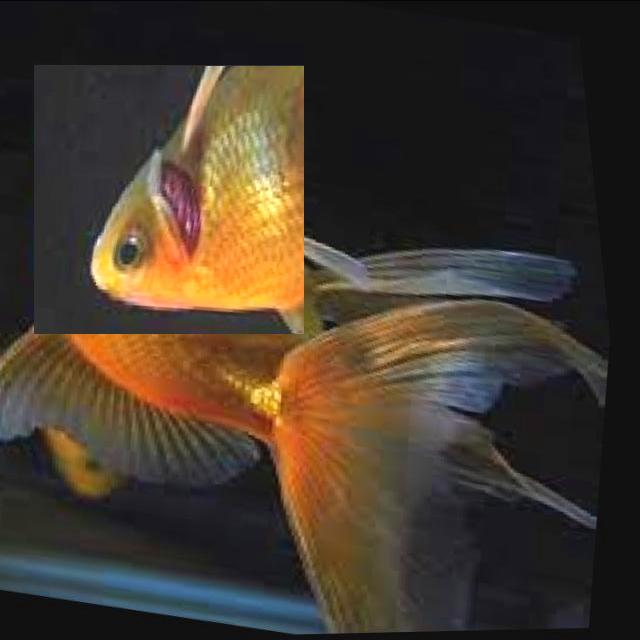Gill Disease: (34, 64, 304, 333)
